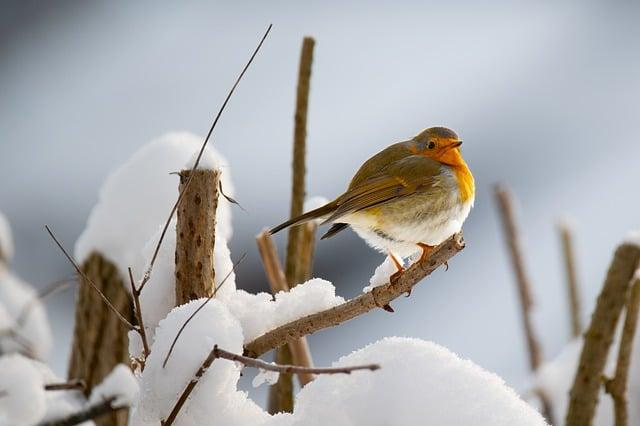bird: (269, 127, 474, 266)
